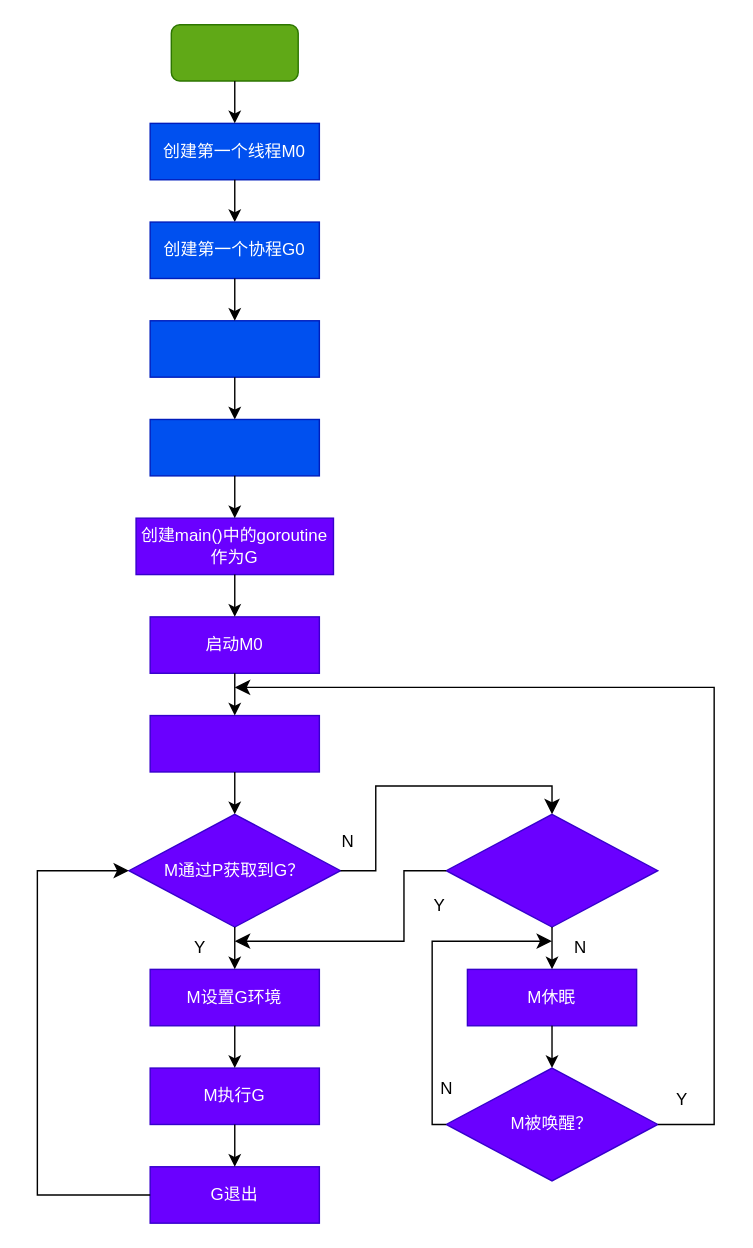
Image size: 753x1248. Some labels were removed from this diagram. The shapes that lost their labels are listed below. From the top down, each one's box as (x1, y1, x2, y2) in pixels, then its label:
(170, 23, 298, 81): 开始
(149, 319, 319, 377): 关联M0和G0
(149, 418, 319, 476): 调度初始化
(149, 714, 319, 772): M关联P
(445, 813, 658, 927): M从别的P获取到G？
